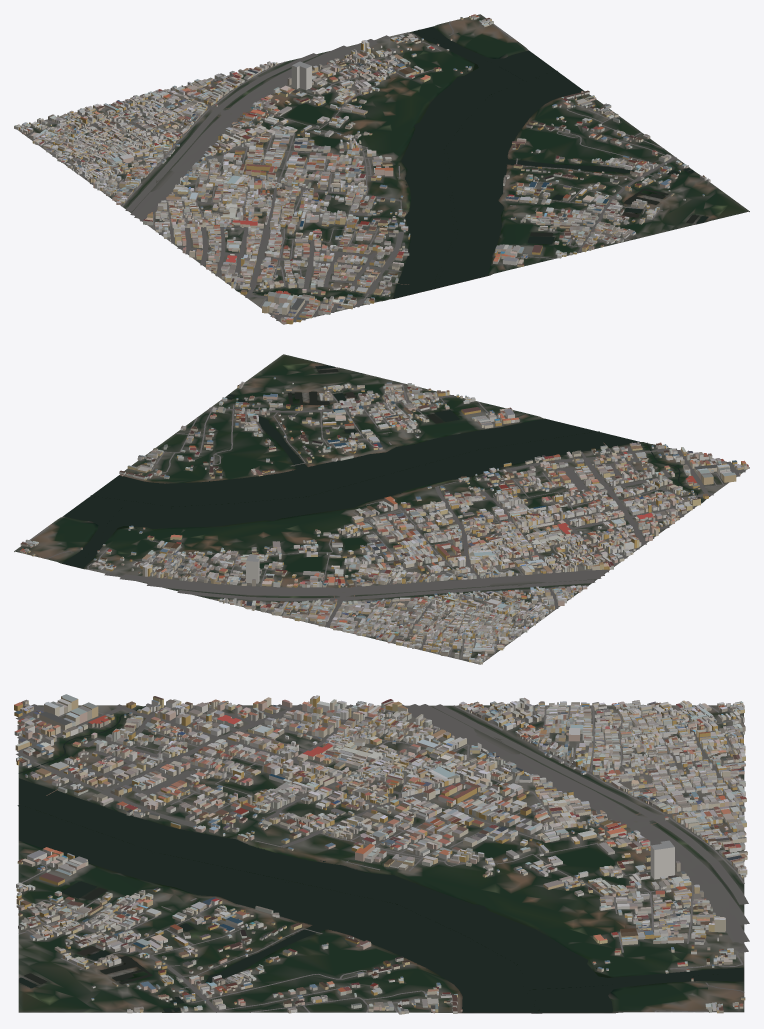
3 renders of one model, top to bottom at view 1: azimuth 30°, elevation 25°; view 2: azimuth 150°, elevation 25°; view 3: azimuth 270°, elevation 25°, orthographic. The views are drawn at different scales.
Parts seen in each view (by area): view 1: buildings, ground, water, roads; view 2: buildings, ground, water, roads; view 3: buildings, ground, water, roads.
Part boxes in pixels (x1=…): buildings: x1=14, y1=14, x2=710, y2=324; ground: x1=17, y1=14, x2=749, y2=324; water: x1=236, y1=26, x2=708, y2=300; roads: x1=21, y1=21, x2=706, y2=322; buildings: x1=20, y1=377, x2=748, y2=664; ground: x1=14, y1=354, x2=749, y2=664; water: x1=62, y1=365, x2=702, y2=568; roads: x1=29, y1=383, x2=745, y2=659; buildings: x1=14, y1=694, x2=747, y2=1014; ground: x1=18, y1=705, x2=744, y2=1013; water: x1=17, y1=706, x2=743, y2=1013; roads: x1=16, y1=704, x2=749, y2=1012.
Size of the model in its own units: 1420 by 68.44 by 1421.
